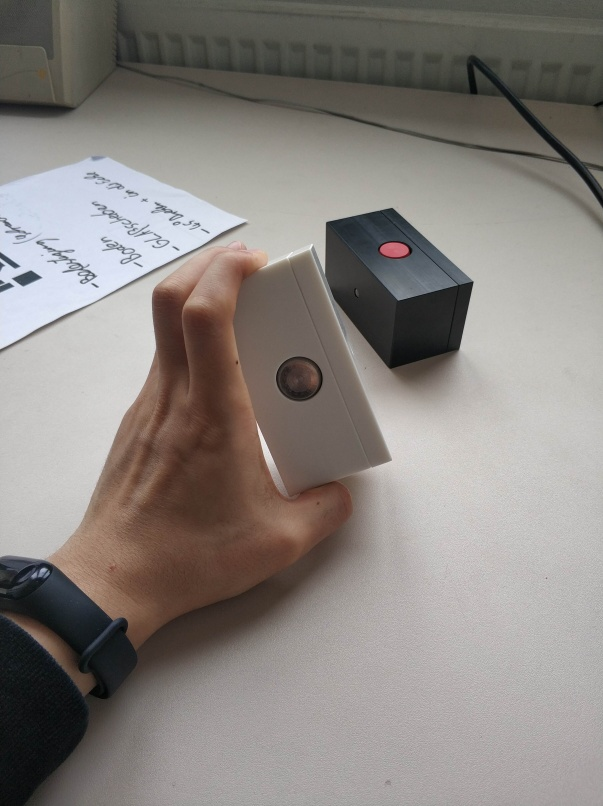black+black+red: (325, 202, 477, 364)
white+white+silver: (229, 243, 394, 498)
